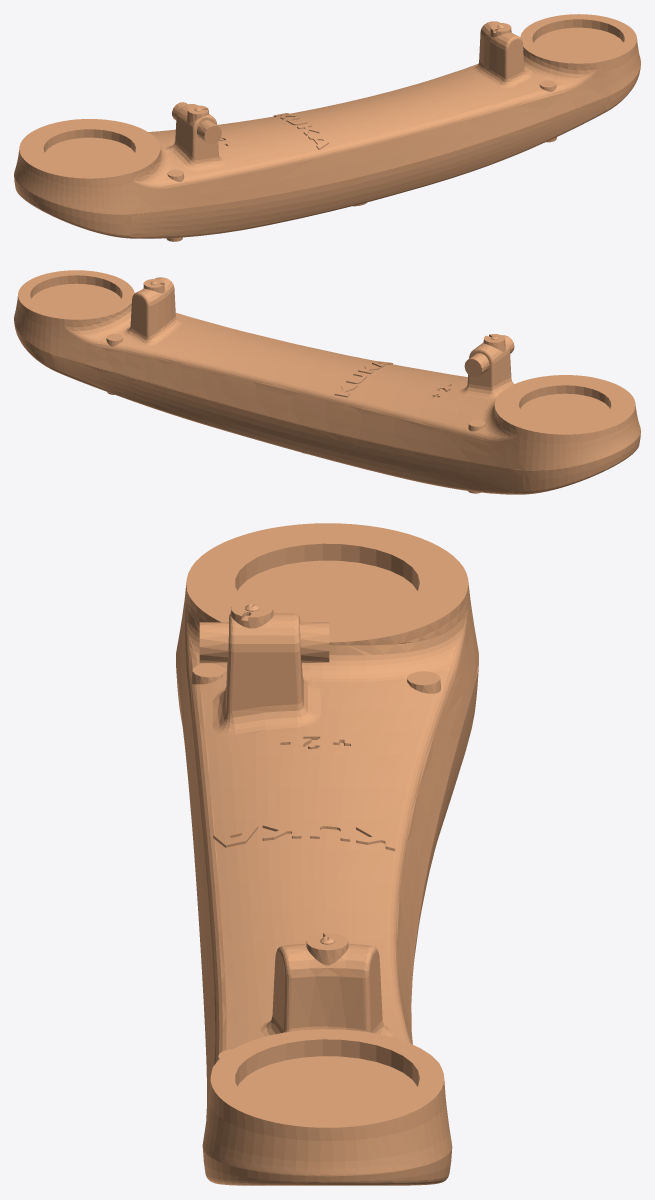
3 renders of one model, top to bottom at view 1: azimuth 30°, elevation 25°; view 2: azimuth 150°, elevation 25°; view 3: azimuth 270°, elevation 25°, orthographic. The views are drawn at different scales.
Visible parts, largest first — view 1: /Link_2/Link_2-mesh/0; view 2: /Link_2/Link_2-mesh/0; view 3: /Link_2/Link_2-mesh/0.
Boxes of the visible parts, x1,y1,x2,y2 form: /Link_2/Link_2-mesh/0: (14, 14, 640, 241); /Link_2/Link_2-mesh/0: (14, 270, 640, 494); /Link_2/Link_2-mesh/0: (176, 523, 478, 1185).
Size of the model in its own units: 0.7594 by 0.1538 by 0.1639.
